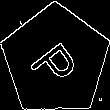P_NE: (25, 31, 85, 90)
